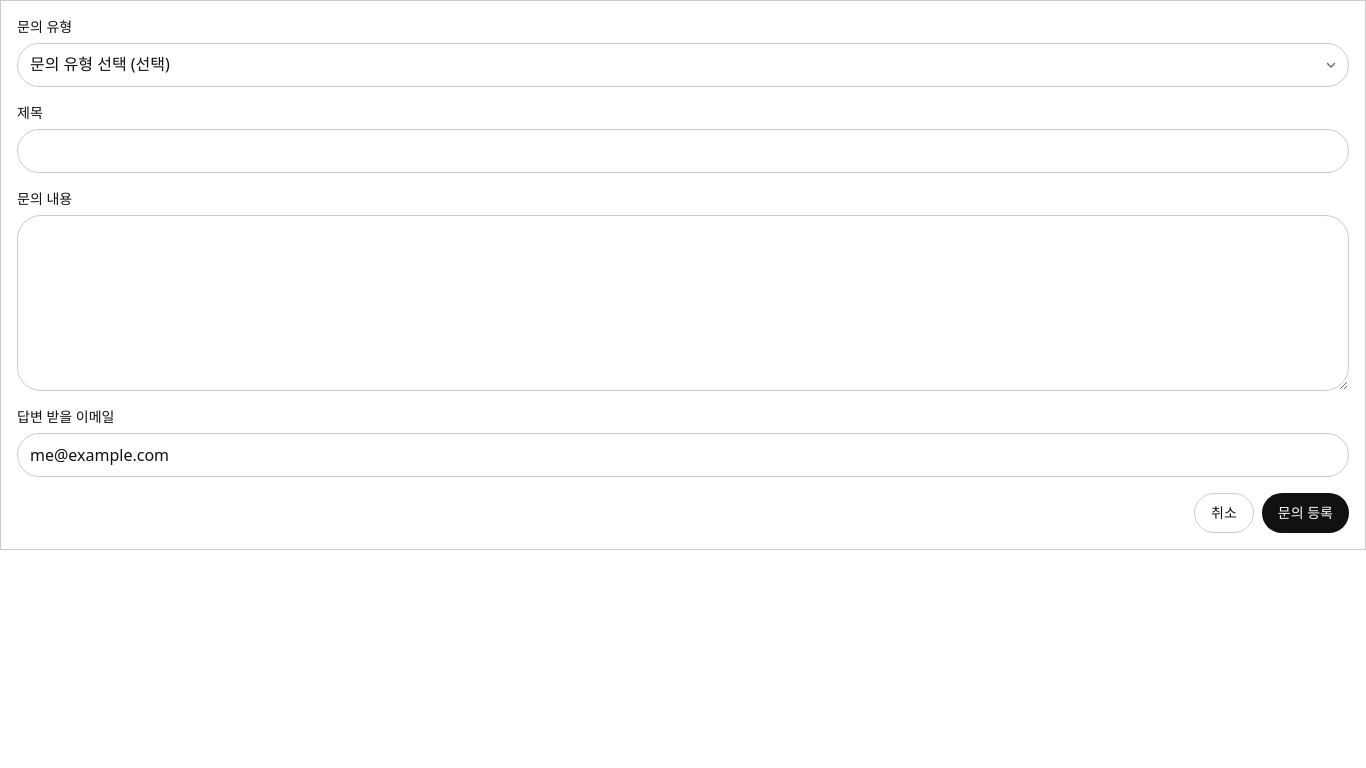
Test case: <InquiryFormClient> › 429(레이트리밋)면 5건/시간 안내를 노출하고 이동하지 않는다
Step 1. Type "제목" into the field with test id "inquiry-subject" → (683, 151), box top-left (17, 129), bottom-right (1349, 173)
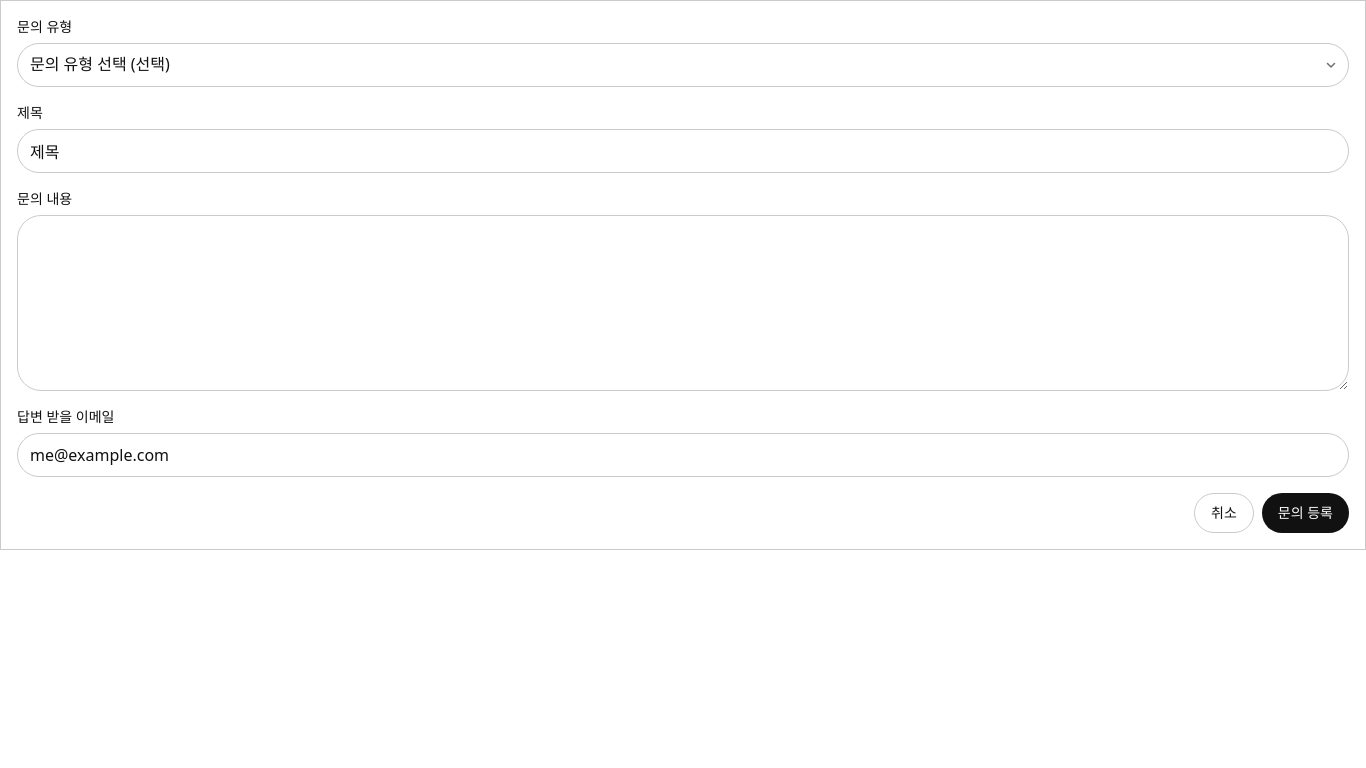
Step 2. Type "본문" into the text box with test id "inquiry-body" → (683, 303), box top-left (17, 215), bottom-right (1349, 391)
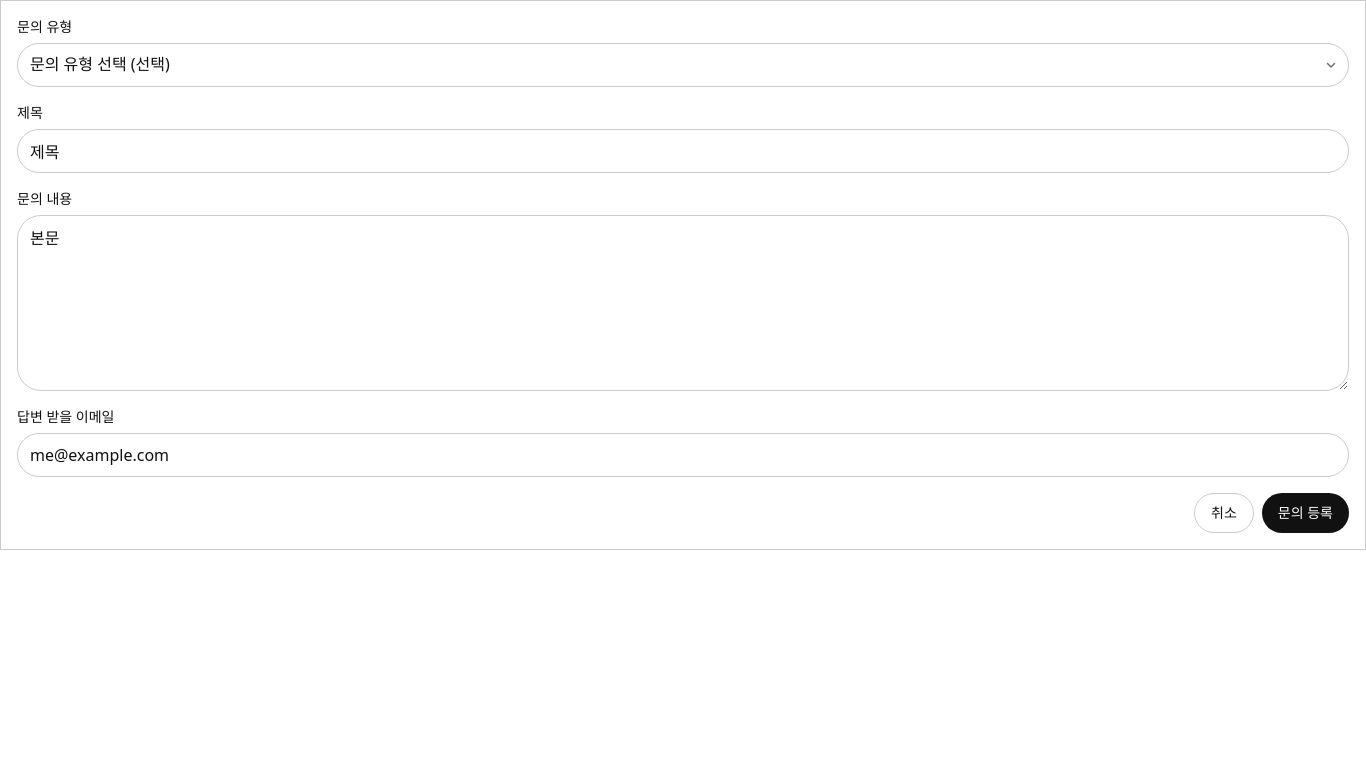
Step 3. Click the button with test id "inquiry-submit" → click(1305, 513), box top-left (1262, 493), bottom-right (1349, 533)
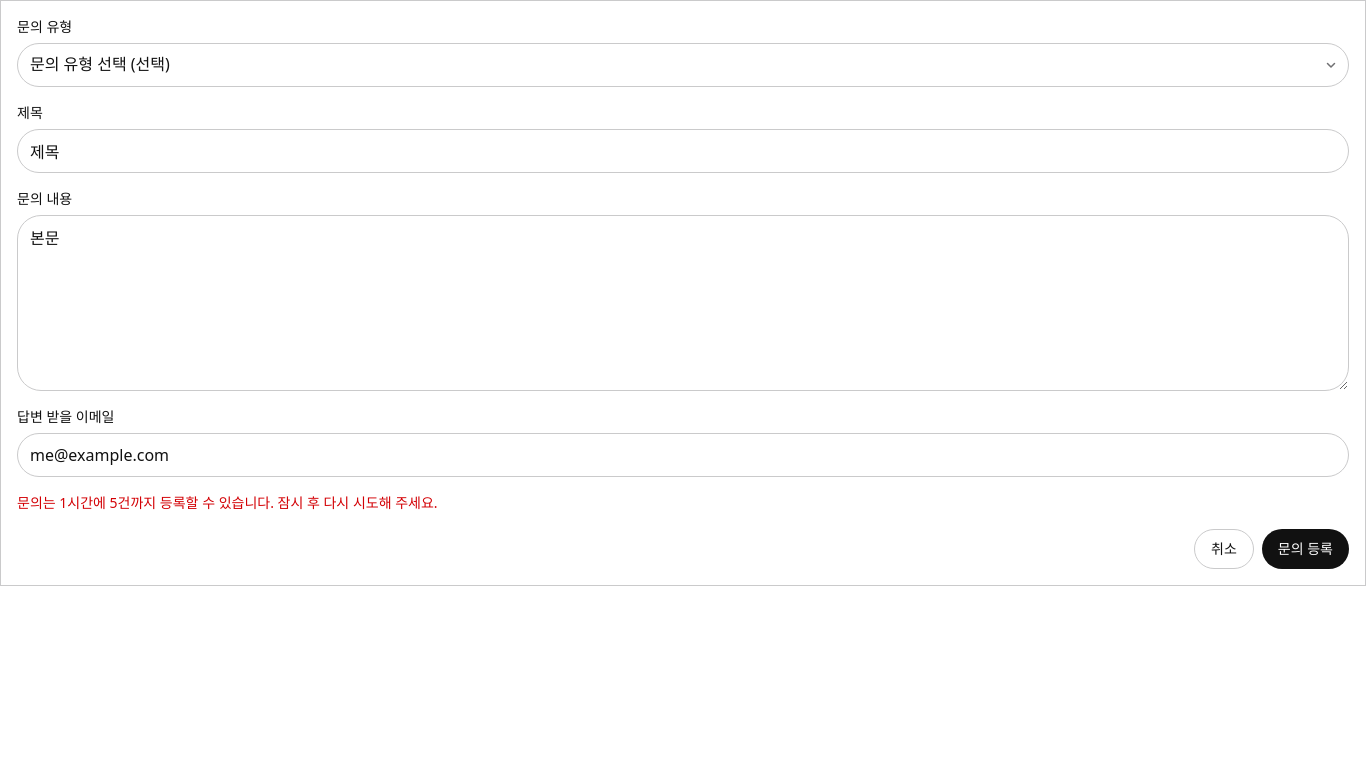
Expected: the message shows "문의는 1시간에 5건까지 등록할 수 있습니다", top-left (17, 493), bottom-right (438, 512)
